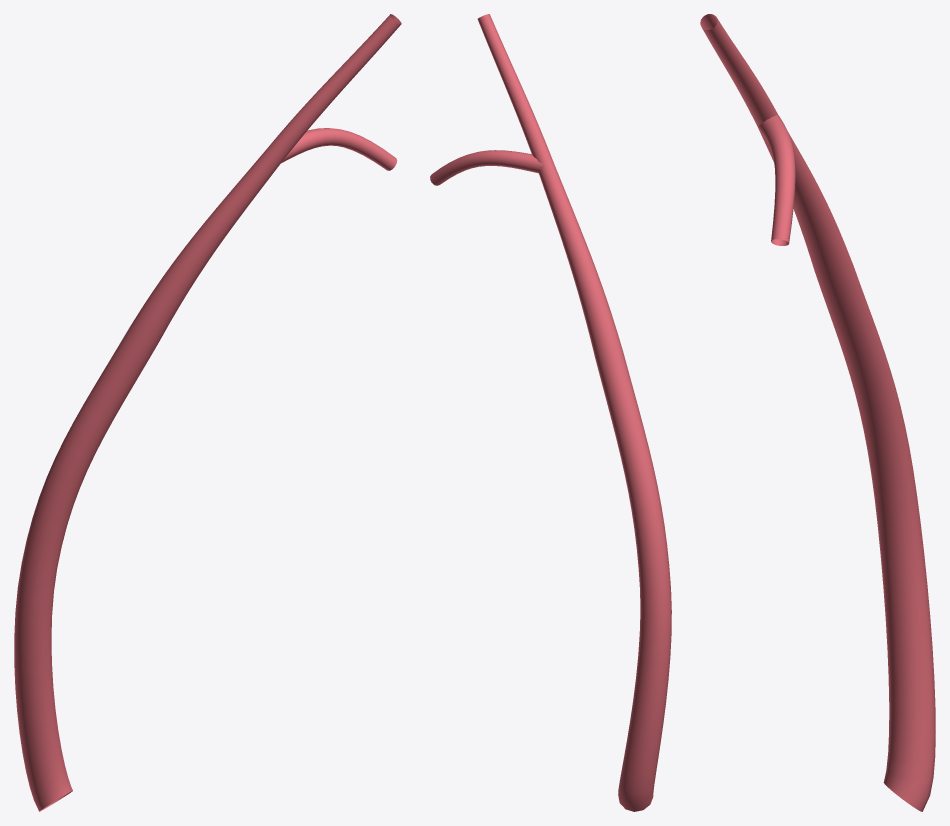
3 renders of one model, left to right at view 1: azimuth 30°, elevation 25°; view 2: azimuth 150°, elevation 25°; view 3: azimuth 270°, elevation 25°, orthographic. The views are drawn at different scales.
Visible parts, largest first — view 1: ZA_996f0717f2090e4a; view 2: ZA_996f0717f2090e4a; view 3: ZA_996f0717f2090e4a.
Part boxes in pixels (box(x1,y1,x2,y2)): ZA_996f0717f2090e4a: box(14, 14, 401, 811); ZA_996f0717f2090e4a: box(430, 14, 671, 811); ZA_996f0717f2090e4a: box(700, 14, 935, 811).
Bounding box in the file's own units: 0.0147 × 0.0341 × 0.00772.
